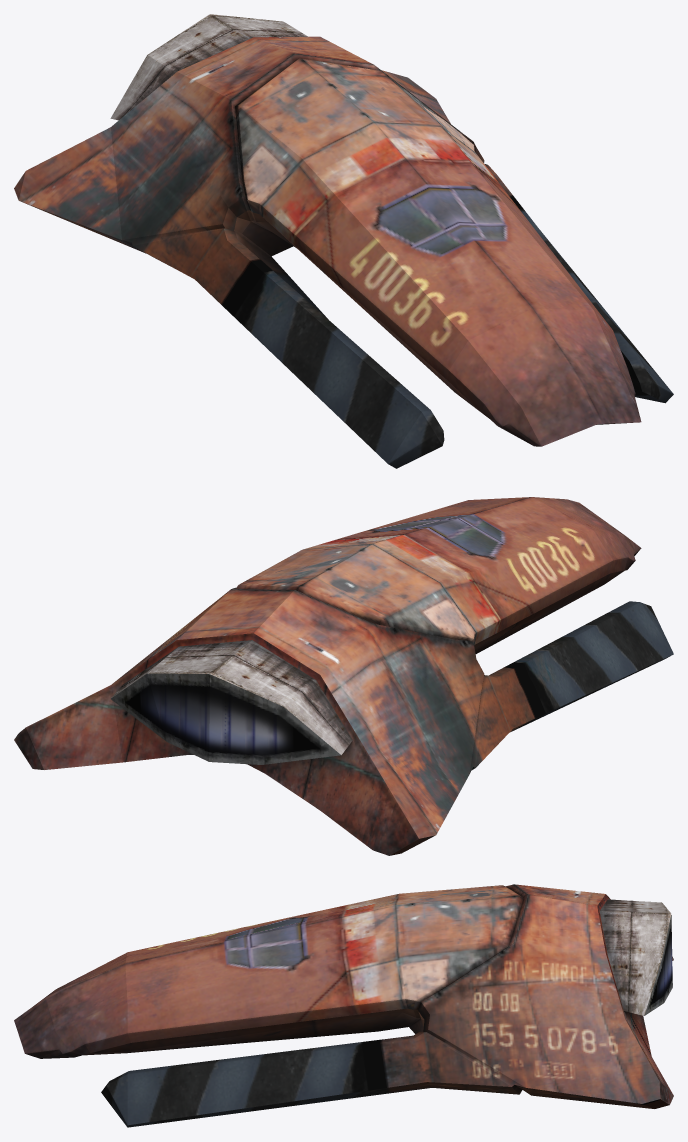
The model's file is Wavecraft2.obj.
3 views of the same model, one above another, from view 1: azimuth 30°, elevation 25°; view 2: azimuth 150°, elevation 25°; view 3: azimuth 270°, elevation 25° (orthographic). The views are drawn at different scales.
Parts seen in each view (by area): view 1: Craft_Craft; view 2: Craft_Craft; view 3: Craft_Craft.
Boxes of the visible parts, x1,y1,x2,y2 form: Craft_Craft: (14,14,673,468); Craft_Craft: (14,497,673,855); Craft_Craft: (14,884,673,1127).
Size of the model in its own units: 3.88 by 1.86 by 6.27.
Materials: 1 (1 with a texture image).
